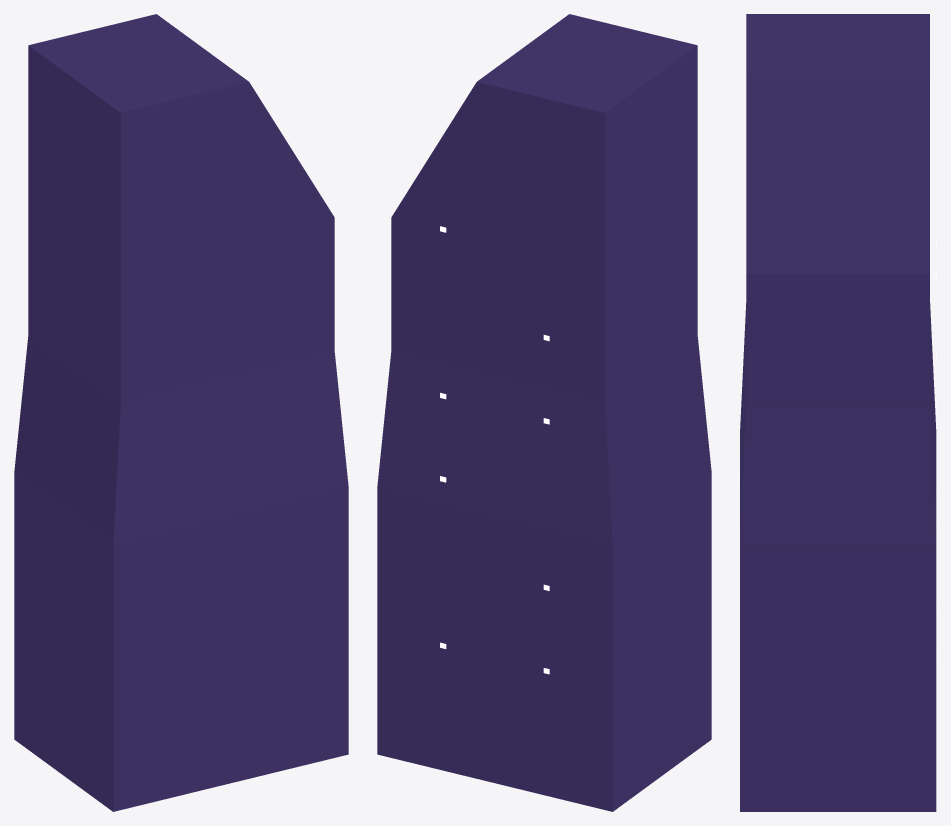
The model's file is 03_slash_roof_62m.glb.
The picture shows the model from 3 angles, left to right: view 1: azimuth 30°, elevation 25°; view 2: azimuth 150°, elevation 25°; view 3: azimuth 270°, elevation 25°; orthographic projection.
Parts seen in each view (by area): view 1: body; view 2: body; view 3: body.
Boxes of the visible parts, box(x1,y1,x2,y2) form: body: box(14, 14, 348, 811); body: box(377, 14, 711, 811); body: box(740, 14, 936, 811).
Size of the model in its own units: 22 by 62 by 16.06.
